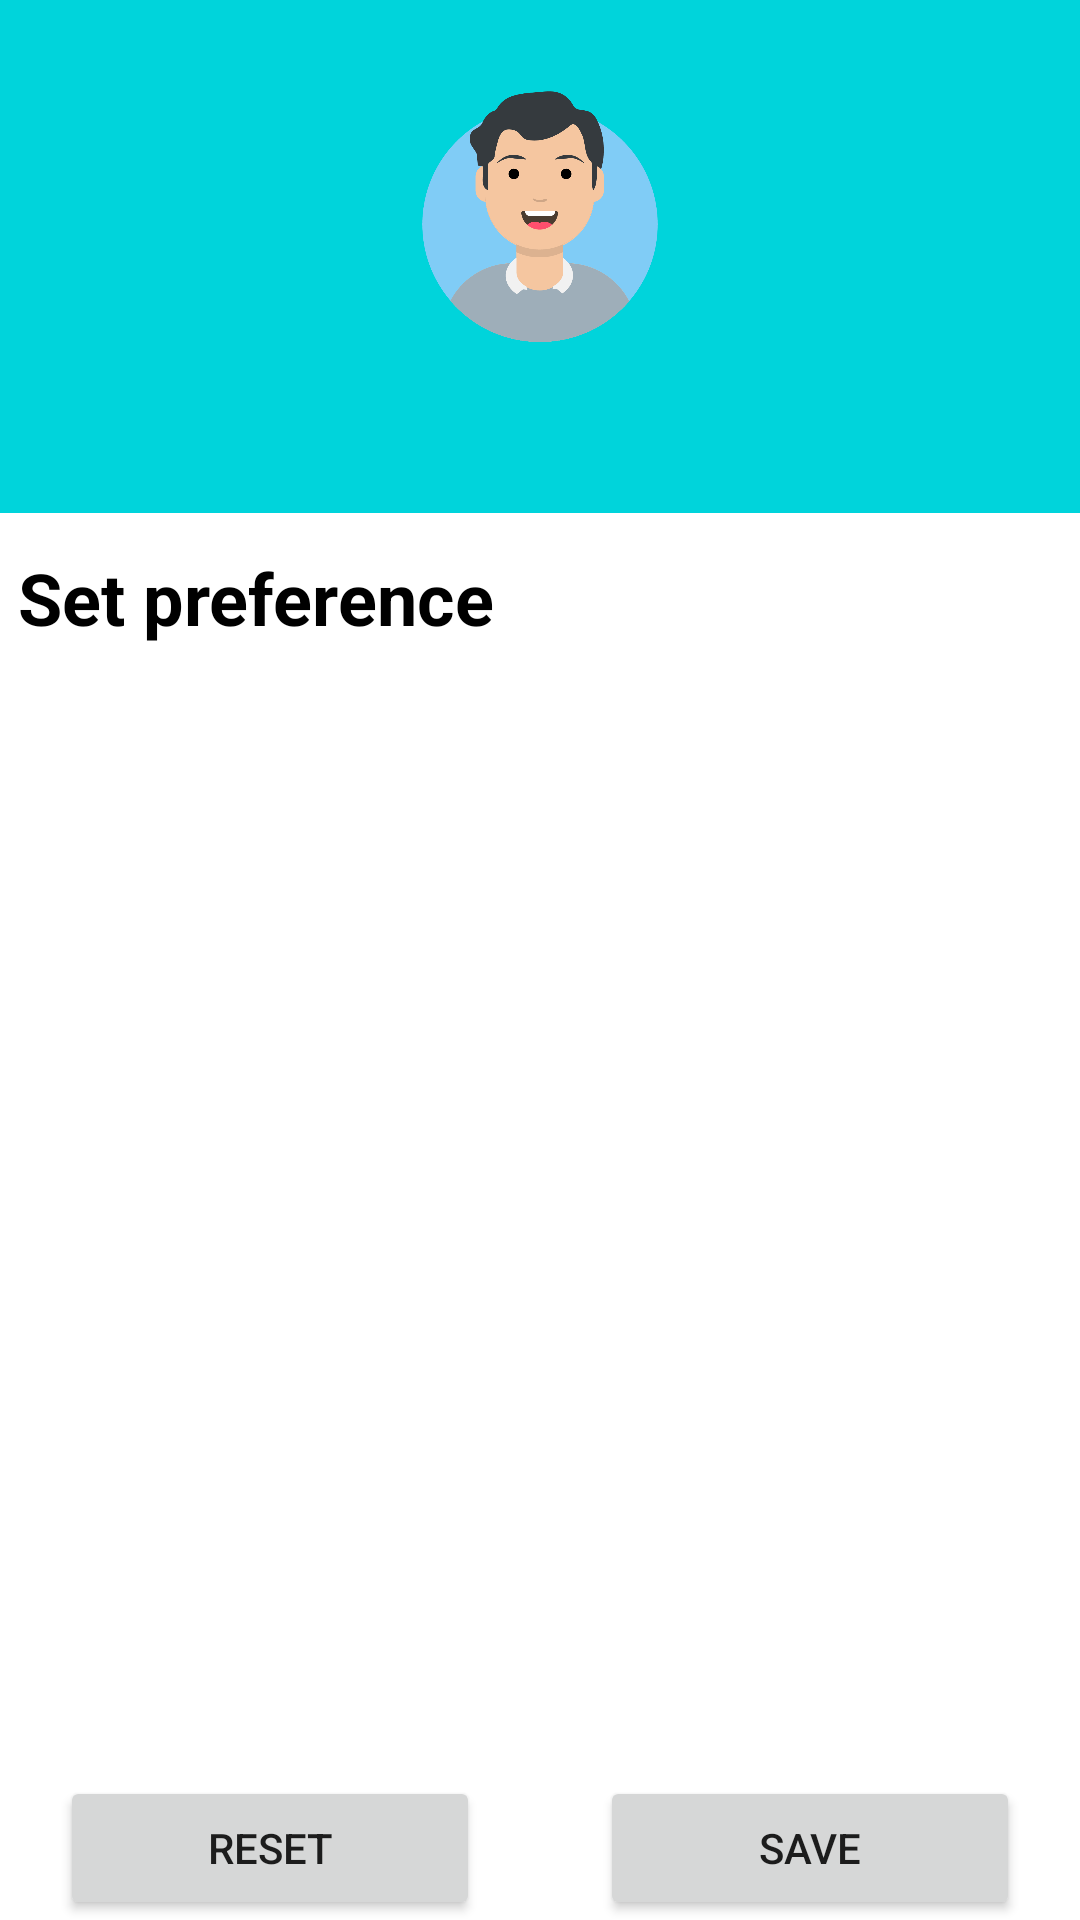

Where to tap for icons on this 1080w x 1920h app screen, as point (x, y):
head: point (540, 216)
